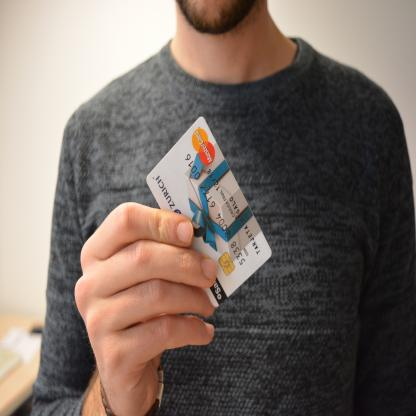tarjeta: (146, 116, 272, 308)
